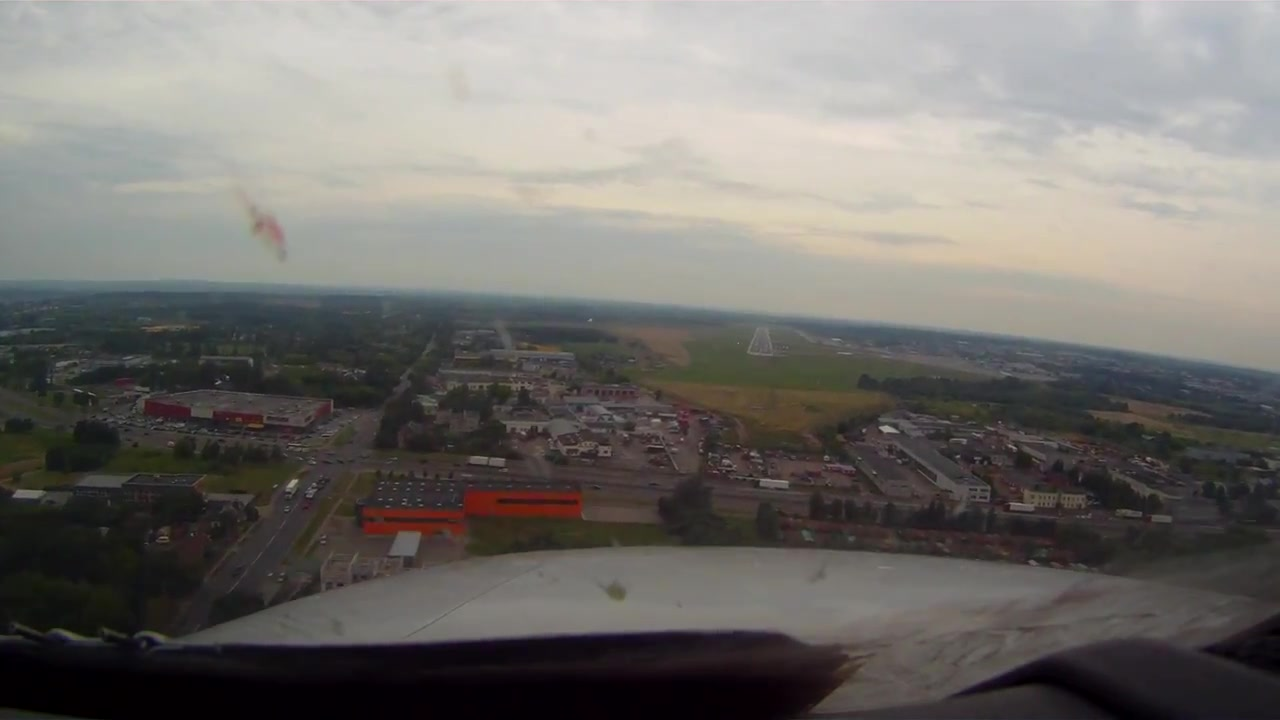runway: (745, 328, 776, 356)
